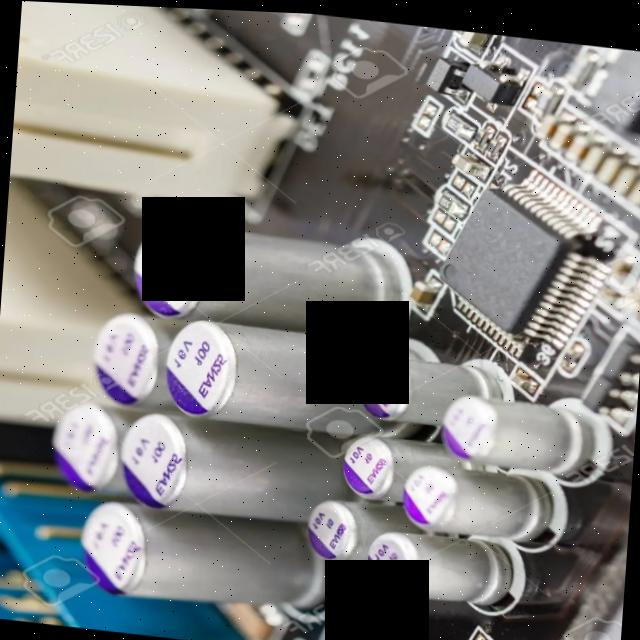4439: (458, 49, 530, 111), (421, 47, 466, 94)
IC: (438, 168, 606, 354)
capacitor 1V5: (128, 212, 402, 339), (51, 496, 334, 616), (170, 310, 386, 439), (110, 407, 320, 526), (398, 453, 566, 546), (441, 381, 600, 472), (366, 522, 519, 606), (352, 343, 492, 425), (76, 303, 164, 408), (30, 394, 122, 494), (336, 428, 418, 500), (294, 494, 369, 565), (445, 148, 494, 174), (406, 275, 438, 307), (592, 147, 620, 180), (536, 106, 562, 139), (561, 124, 587, 154), (608, 160, 630, 195), (543, 116, 570, 144), (578, 139, 602, 167), (623, 166, 640, 198)
